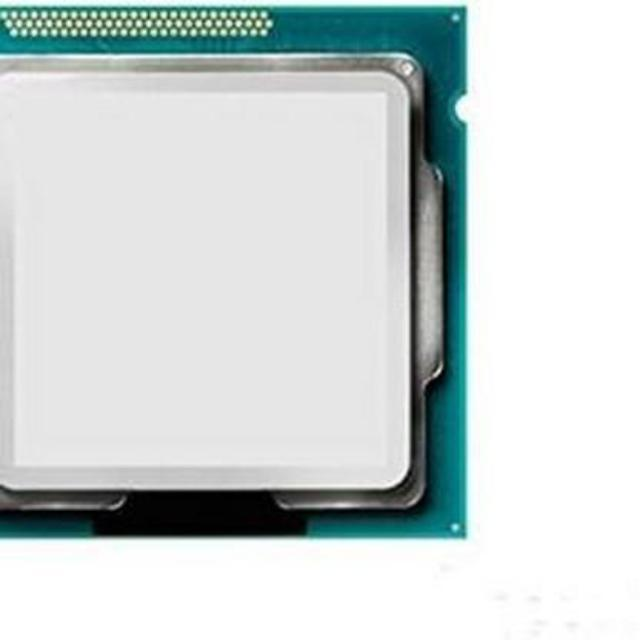CPU: (0, 6, 460, 534)
